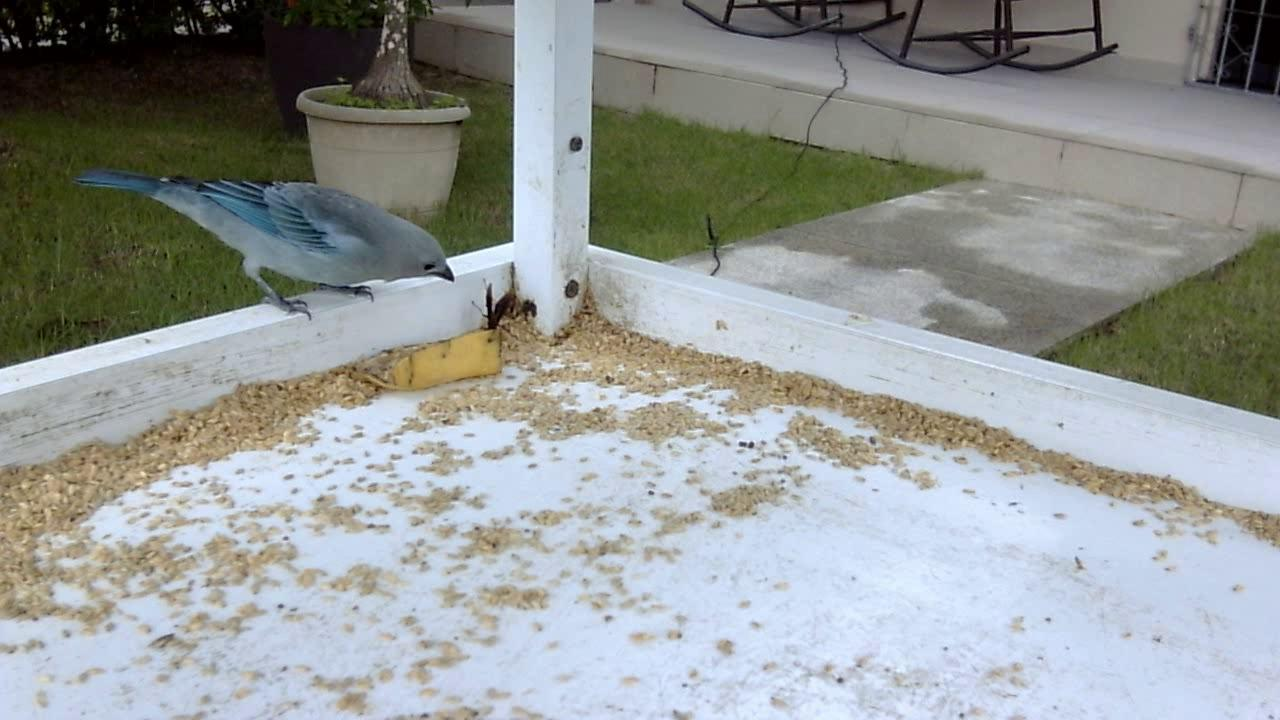sanhaco_da_amazonia: (74, 165, 455, 326)
